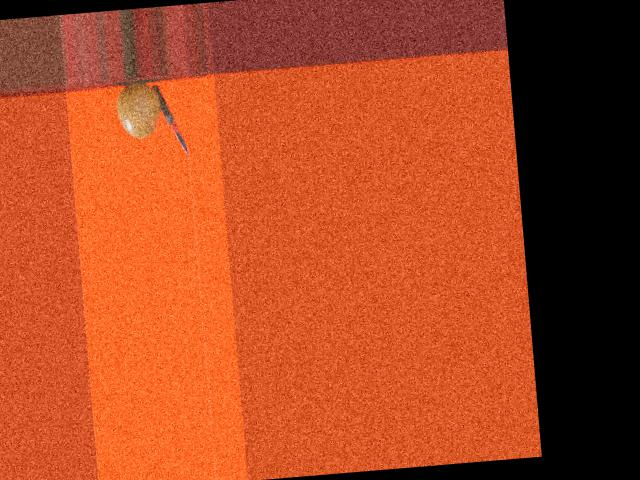egg: (115, 81, 162, 138)
